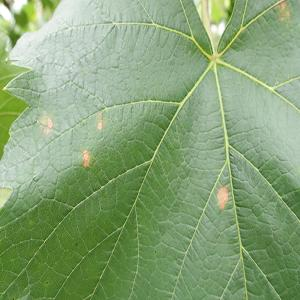Folha: (0, 0, 299, 299)
Fungo: (276, 1, 291, 25), (37, 113, 53, 135), (216, 185, 228, 209), (43, 118, 53, 134), (82, 148, 89, 167), (97, 120, 103, 130)
